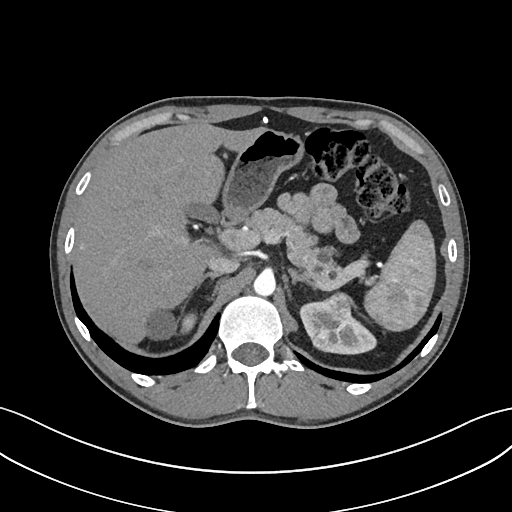Lesion: (312, 327, 329, 351)
